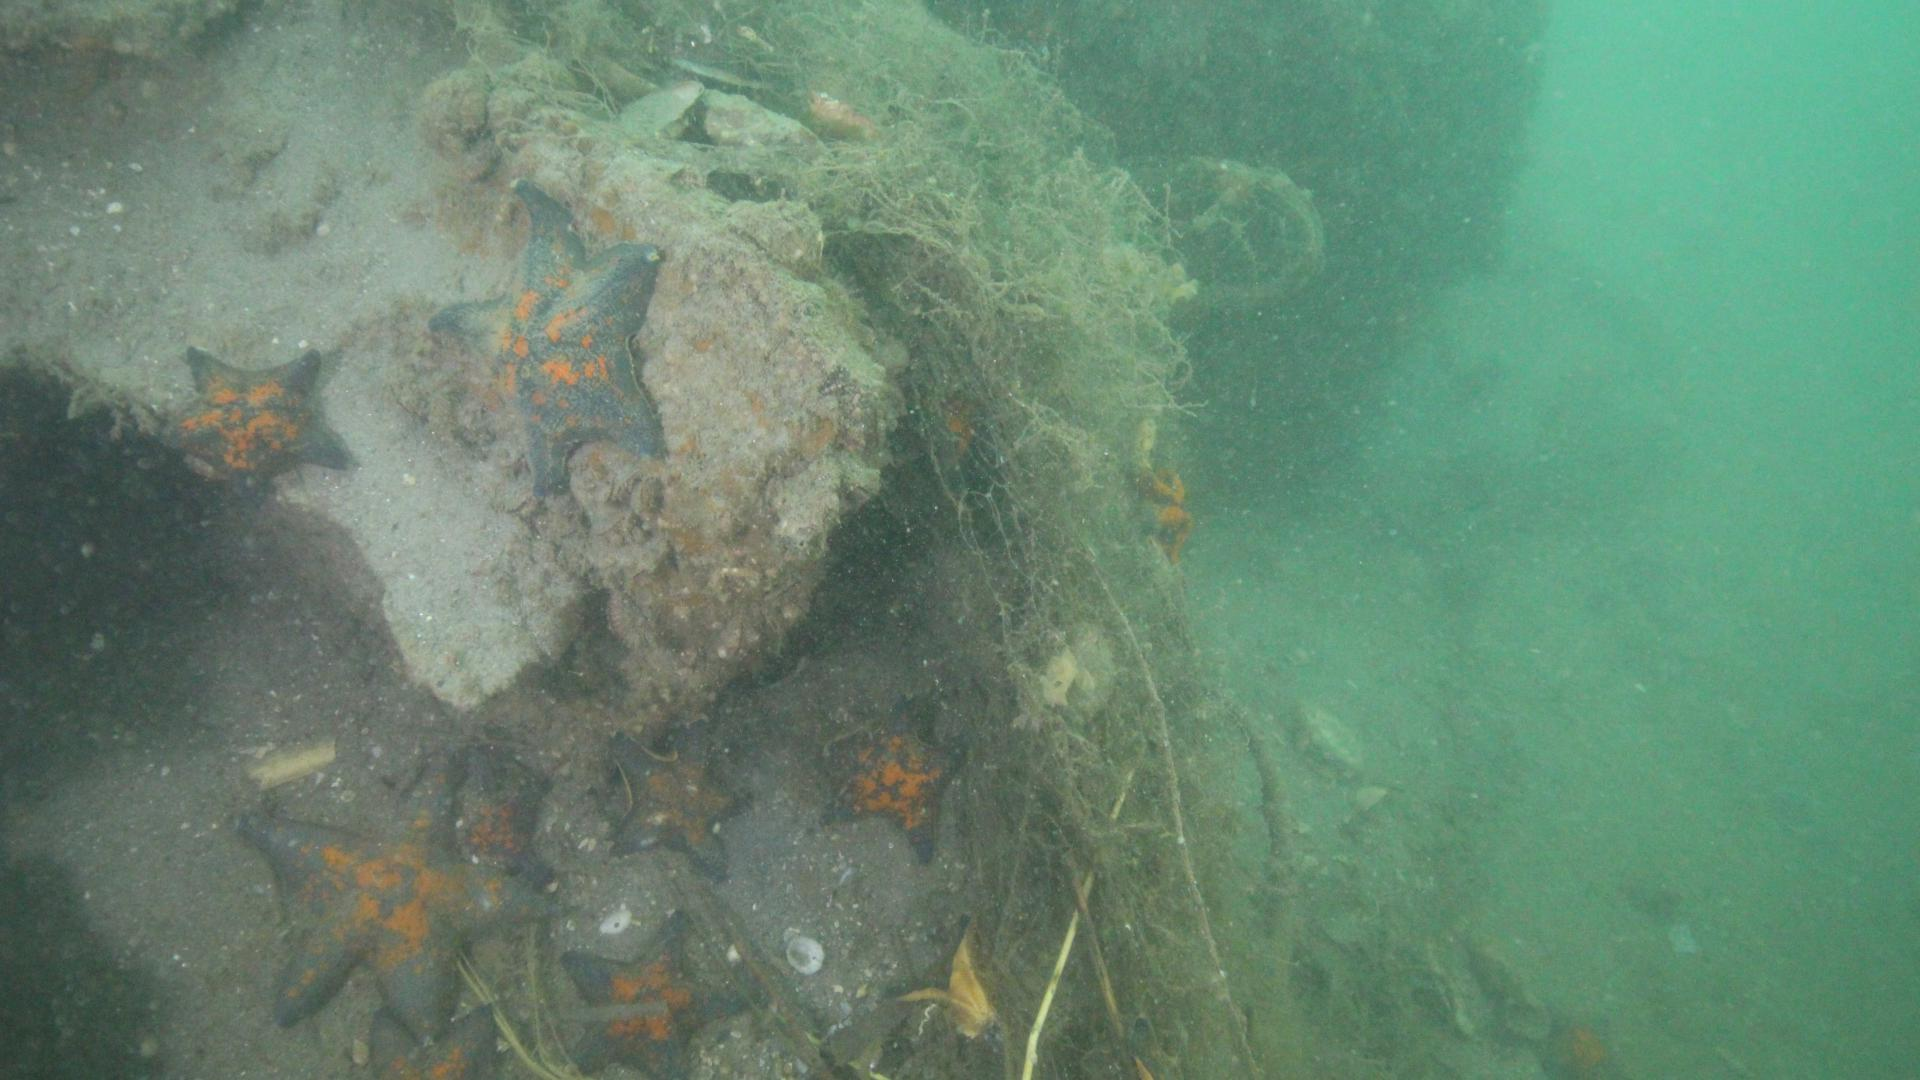rope: (1221, 694, 1298, 942)
